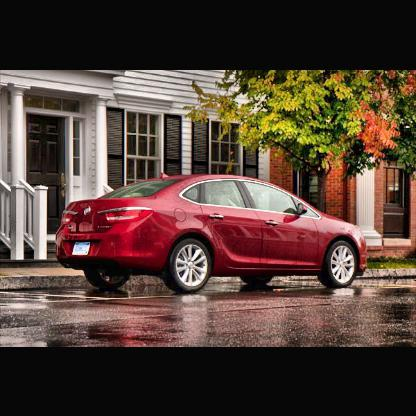Buick Verano Sedan 2012: (56, 174, 369, 296)
